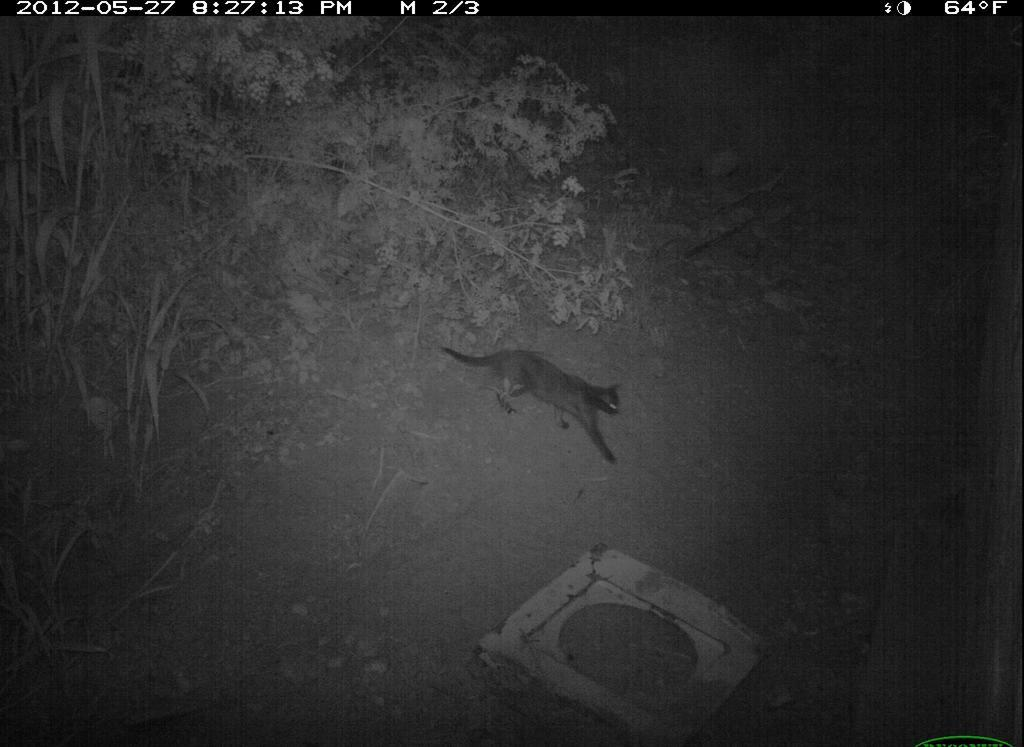cat: (441, 344, 637, 473)
